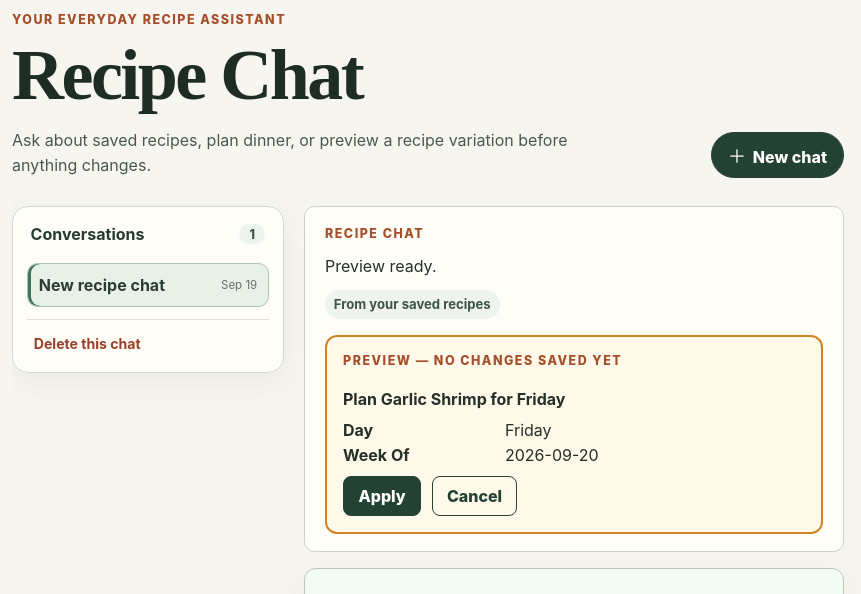
Test: renders an explicit proposal preview and applies it
Expected: the text "Preview — no changes saved yet" is shown, [343, 354, 622, 368]
Click the button "Apply" at (382, 496), box [343, 476, 421, 516]
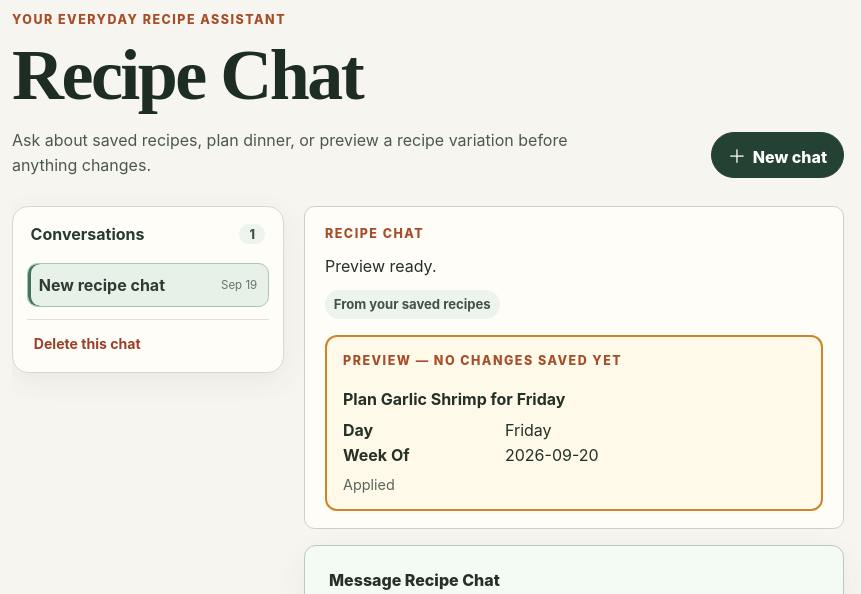
Now the text "Applied" is shown, box [343, 476, 395, 493]
